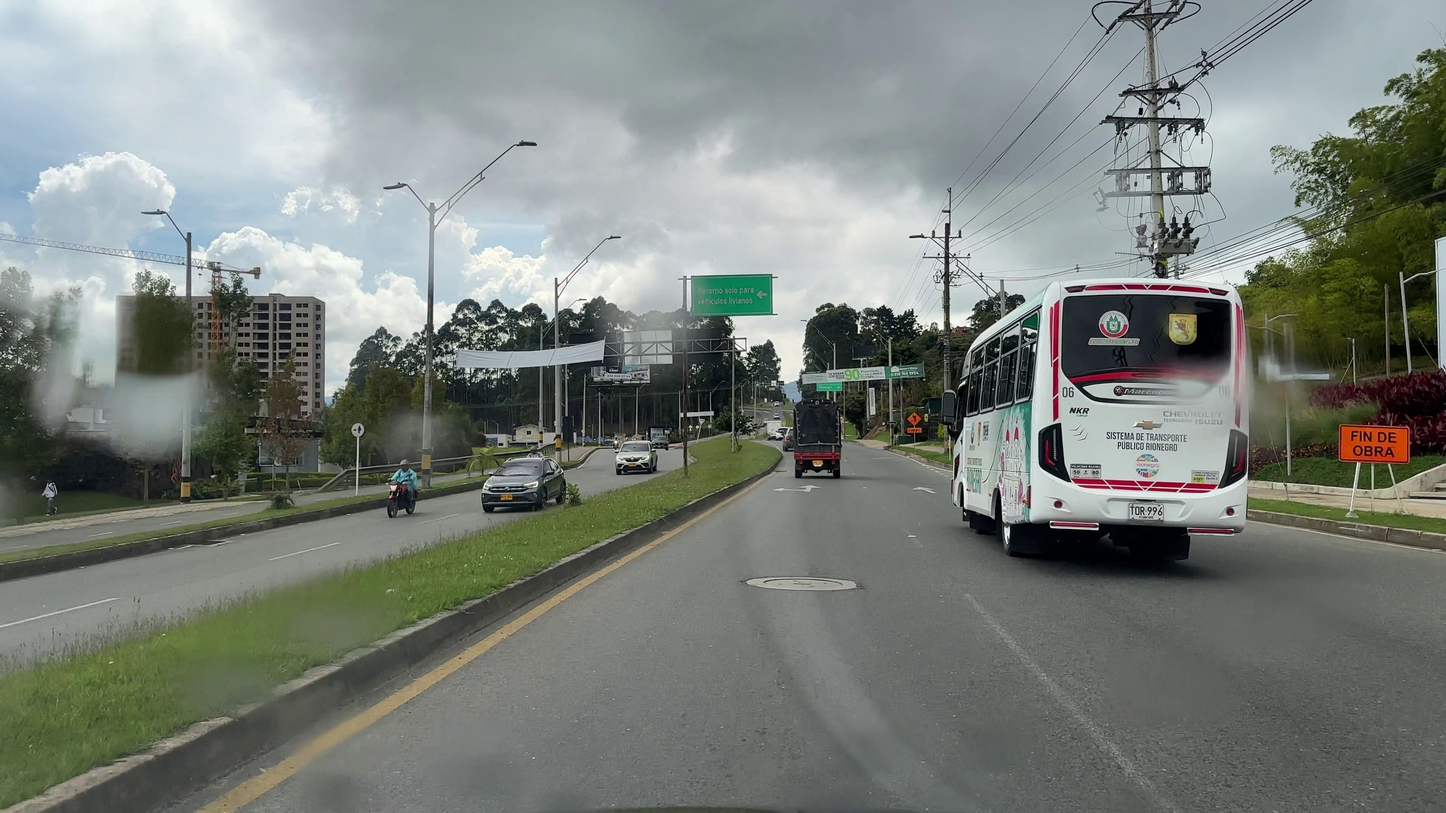registro: (764, 579, 843, 588)
